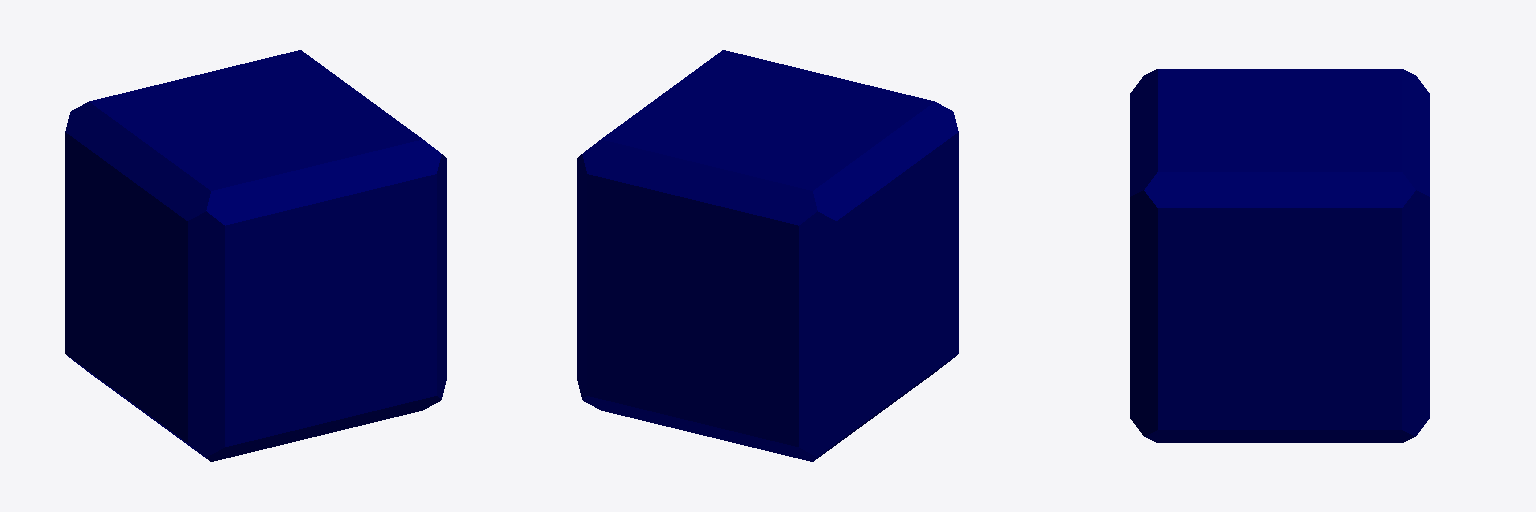
File: SinglePiece-3.obj
The picture shows the model from 3 angles: view 1: azimuth 30°, elevation 25°; view 2: azimuth 150°, elevation 25°; view 3: azimuth 270°, elevation 25°; orthographic projection.
Parts seen in each view (by area): view 1: Cube; view 2: Cube; view 3: Cube.
Boxes of the visible parts, x1,y1,x2,y2 form: Cube: [65, 50, 446, 461]; Cube: [577, 50, 958, 461]; Cube: [1130, 69, 1429, 442].
Bounding box in the file's own units: 1 × 1 × 1.